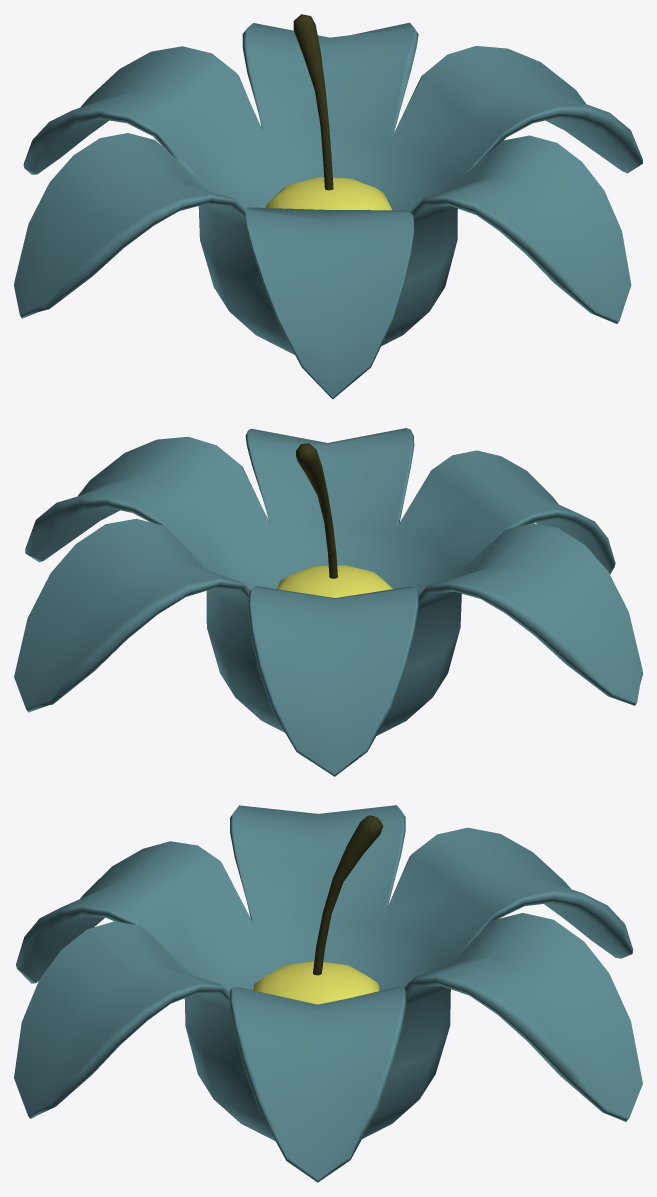
File: ModularFlower_BlueFlower.fbx
The picture shows the model from 3 angles, top to bottom: view 1: azimuth 30°, elevation 25°; view 2: azimuth 150°, elevation 25°; view 3: azimuth 270°, elevation 25°; orthographic projection. The views are drawn at different scales.
Parts seen in each view (by area): view 1: pSphere20; view 2: pSphere20; view 3: pSphere20.
Part boxes in pixels (x1,y1,x2,y2): pSphere20: (14,14,642,399); pSphere20: (14,428,642,776); pSphere20: (14,805,642,1182).
Bounding box in the file's own units: 549 × 274 × 477.
